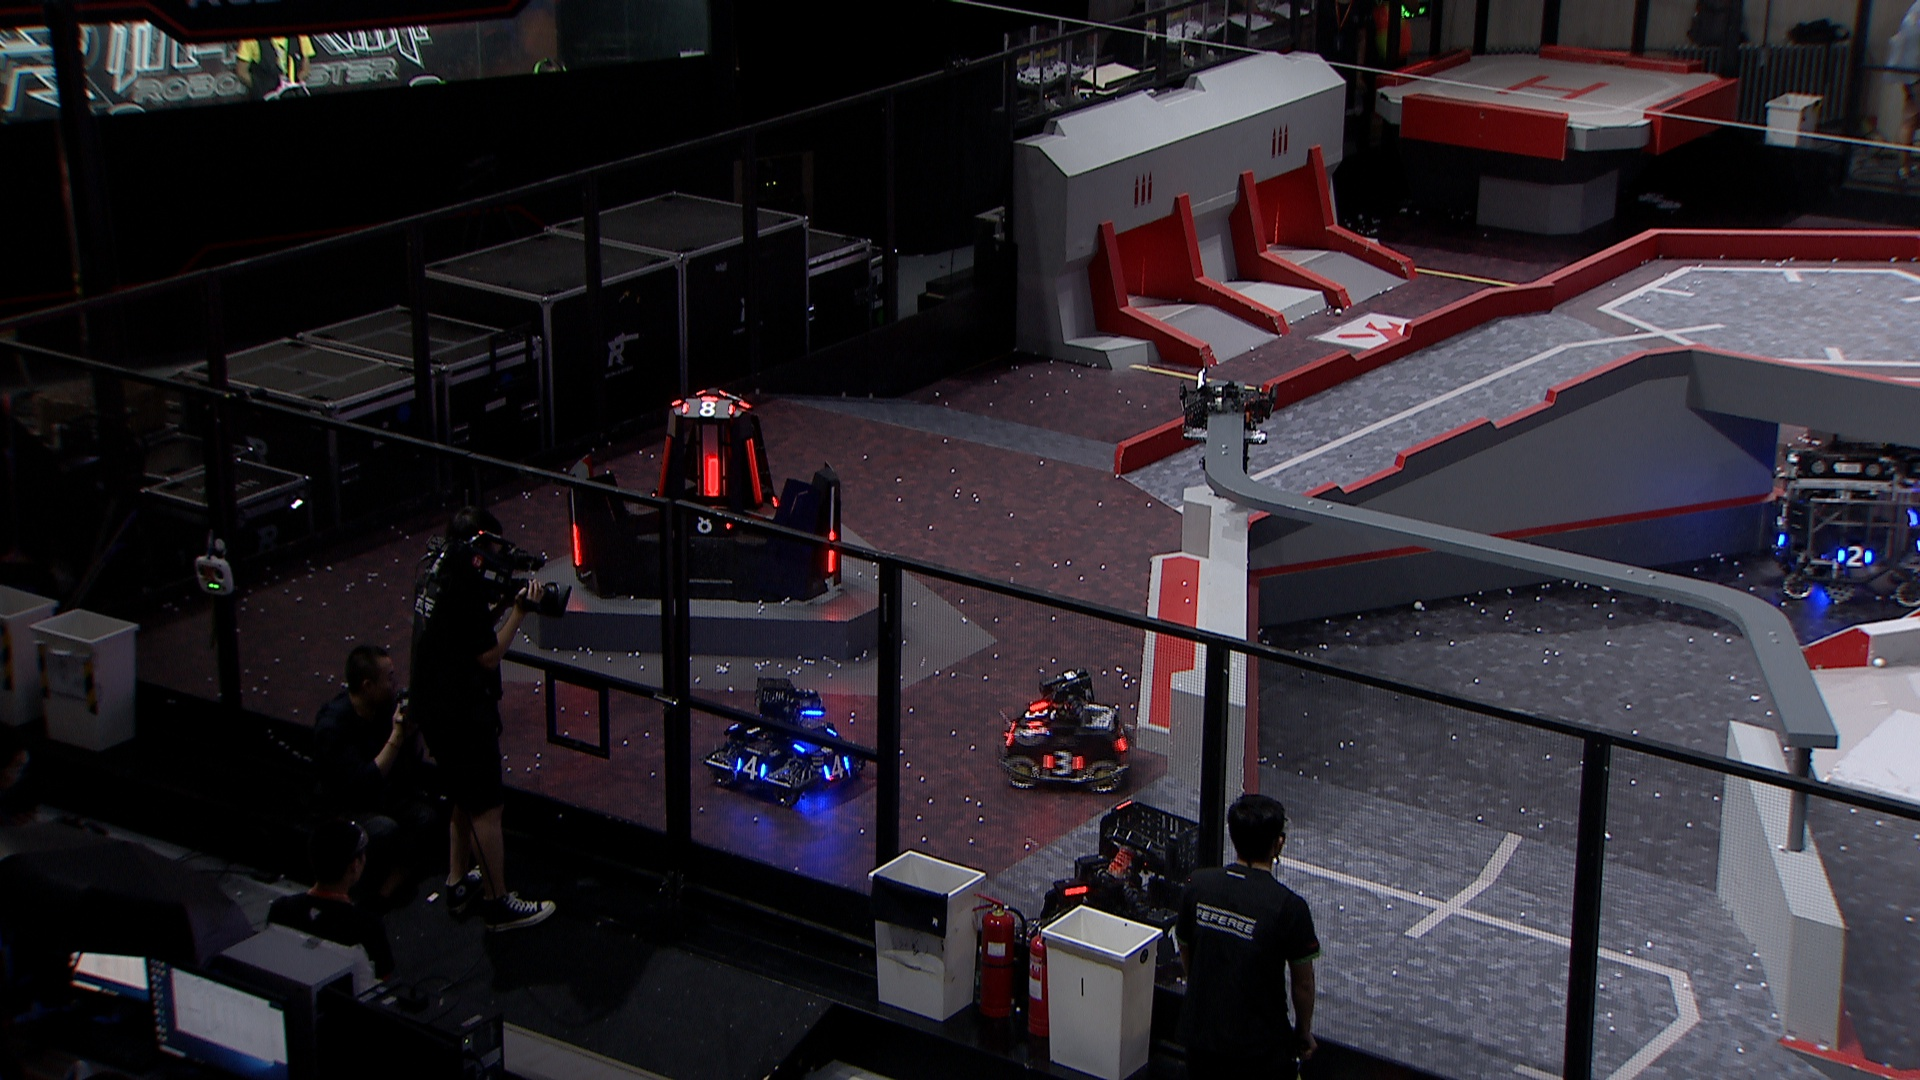armor: (651, 431, 671, 500), (746, 436, 764, 506), (680, 510, 733, 531), (1039, 749, 1081, 774), (680, 398, 736, 415), (1833, 546, 1873, 568), (823, 752, 852, 782), (732, 756, 766, 779), (700, 455, 717, 498), (1026, 702, 1051, 731), (1158, 926, 1183, 953), (567, 522, 582, 566), (825, 527, 837, 576), (1114, 725, 1127, 746)
base: (560, 386, 847, 604)
car: (1036, 796, 1226, 975), (1766, 419, 1920, 612), (704, 670, 869, 808), (993, 670, 1135, 793)
watcher: (1176, 365, 1278, 476)
